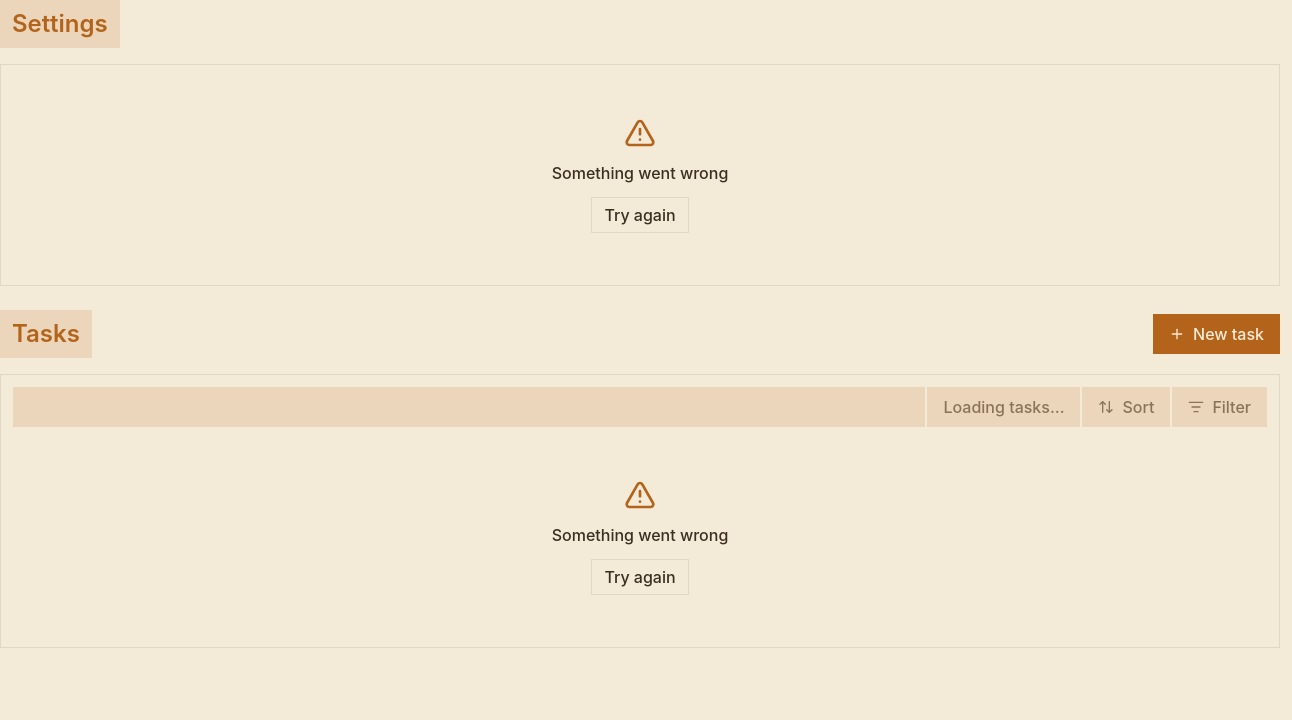
Test: AdminDailyTasksPage › shows an error with Try again when the tasks or the settings cannot be loaded
Expected: the text "Something went wrong" is shown 2 times, [552,161,728,185]; [552,523,728,547]
Click the 1st button "Try again": (640, 215) [591,197,689,233]
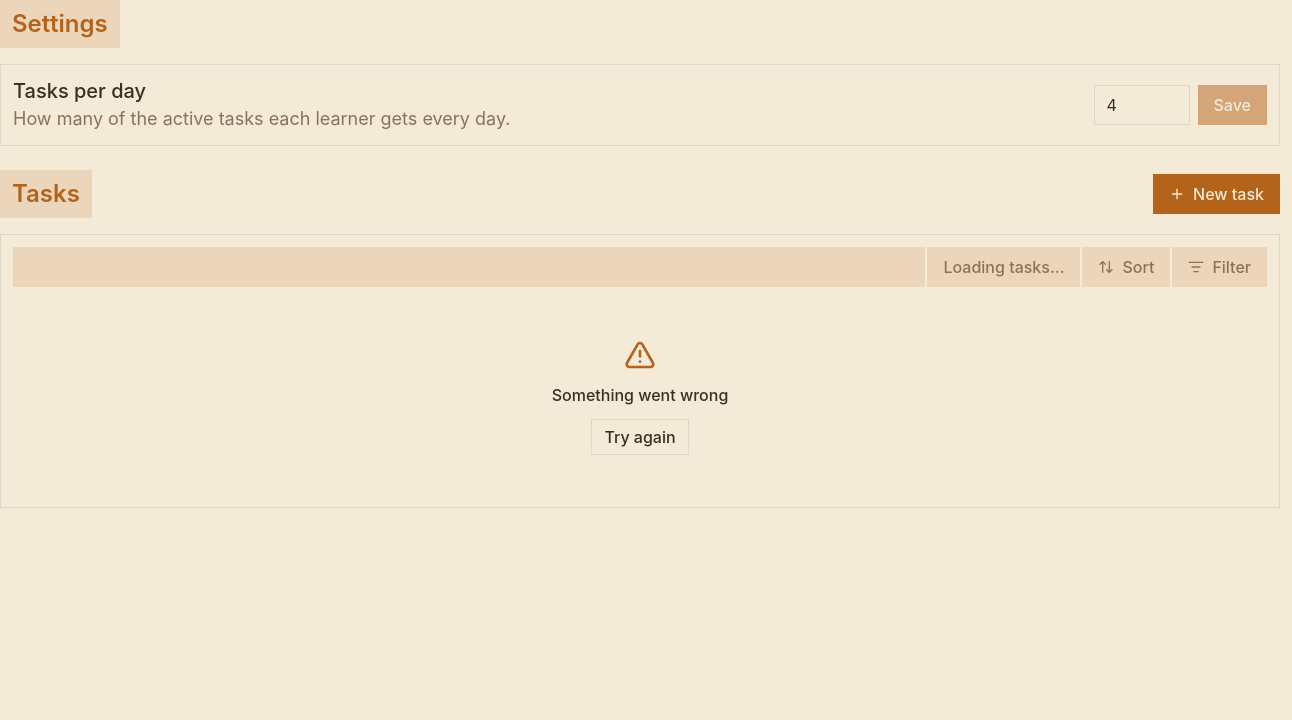
Now the number field labelled "Tasks per day" holds "4", box [1094,85,1190,125]
